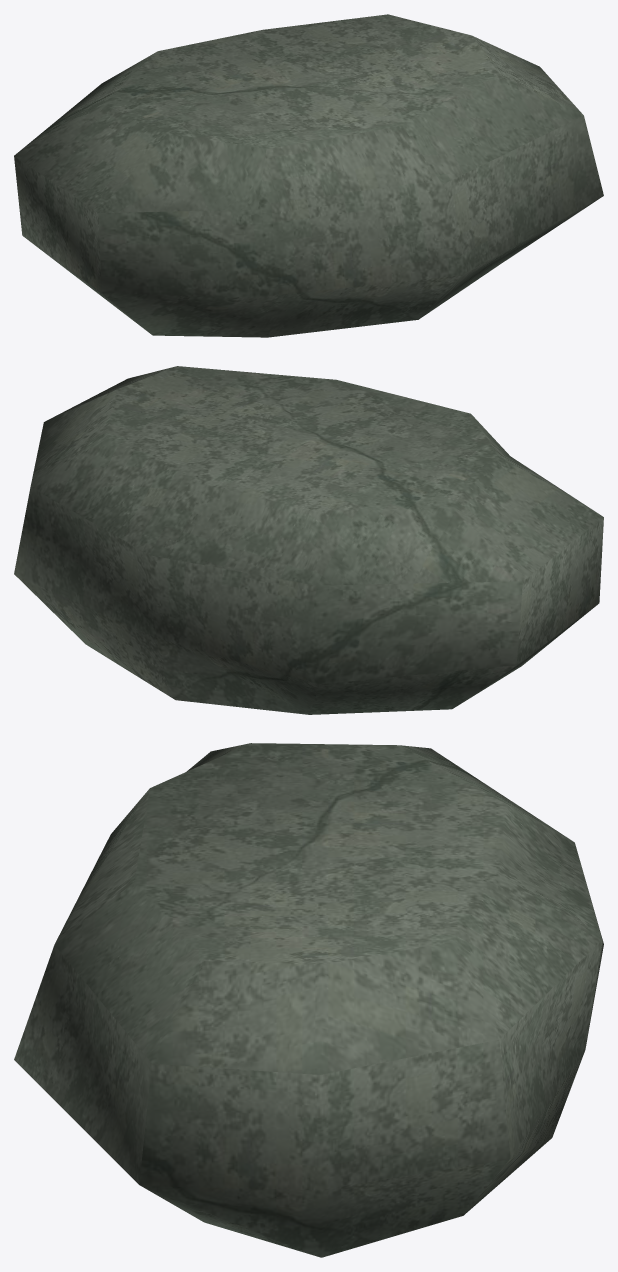
Rendered from resting-stone.mobile.glb.
The picture shows the model from 3 angles, top to bottom: view 1: azimuth 30°, elevation 25°; view 2: azimuth 150°, elevation 25°; view 3: azimuth 270°, elevation 25°; orthographic projection. The views are drawn at different scales.
Parts seen in each view (by area): view 1: SA_C02_MESH_60; view 2: SA_C02_MESH_60; view 3: SA_C02_MESH_60.
Part boxes in pixels (x1,y1,x2,y2): SA_C02_MESH_60: (14,14,603,337); SA_C02_MESH_60: (14,366,603,714); SA_C02_MESH_60: (14,743,603,1257).
Size of the model in its own units: 1.18 by 0.444 by 0.89.
Materials: 1 (1 with a texture image).
